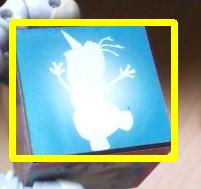Blue2: (12, 22, 174, 158)
